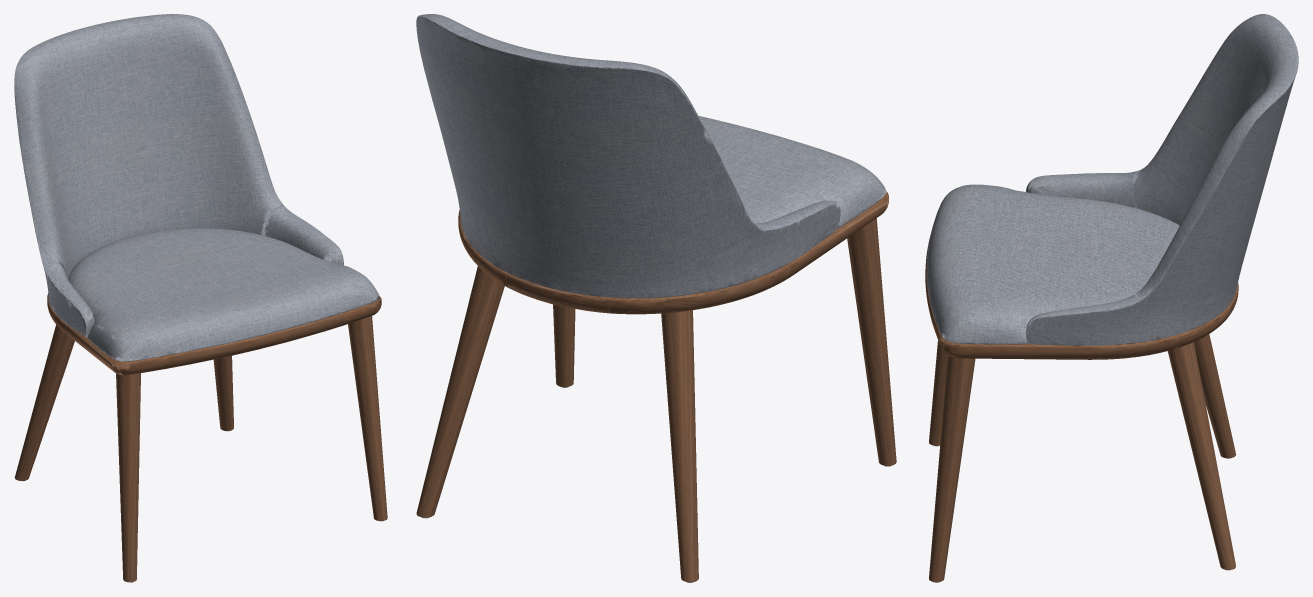
The model's file is CadeiraFloatDelucciAgaveCasa.glb.
3 renders of one model, left to right at view 1: azimuth 30°, elevation 25°; view 2: azimuth 150°, elevation 25°; view 3: azimuth 270°, elevation 25°, orthographic. The views are drawn at different scales.
Parts seen in each view (by area): view 1: Assento_En, Assento_Ba, Group8_1, Group6_1, Group4_1, Group10_1, Group16_1, Group2_1, Group14_1; view 2: Assento_En, Assento_Ba, Group4_1, Group2_1, Group8_1, Group16_1, Group6_1, Group12_1, Group14_1; view 3: Assento_En, Assento_Ba, Group2_1, Group6_1, Group14_1, Group4_1, Group8_1.
Boxes of the visible parts, x1,y1,x2,y2 form: Assento_En: (14,14,343,337); Assento_Ba: (68,228,379,361); Group8_1: (116,373,140,582); Group6_1: (348,316,387,521); Group4_1: (14,324,74,480); Group10_1: (167,312,344,368); Group16_1: (47,293,168,375); Group2_1: (213,355,233,430); Group14_1: (342,296,381,325); Assento_En: (416,14,840,298); Assento_Ba: (699,116,886,228); Group4_1: (661,310,698,582); Group2_1: (416,266,504,517); Group8_1: (847,218,896,465); Group16_1: (606,191,888,314); Group6_1: (553,304,575,387); Group12_1: (506,273,611,313); Group14_1: (458,210,508,287); Assento_En: (1025,14,1298,345); Assento_Ba: (926,184,1179,344); Group2_1: (1167,342,1235,569); Group6_1: (929,355,975,582); Group14_1: (933,306,1230,359); Group4_1: (1194,334,1235,458); Group8_1: (929,340,947,445).
Bounding box in the file's own units: 0.5479 × 0.7952 × 0.5917.
Materials: 5 (2 with a texture image).
